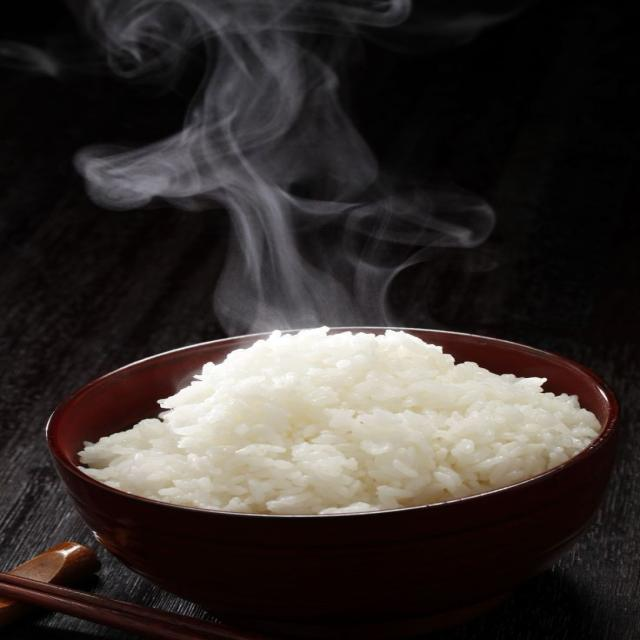rice: (80, 328, 600, 513)
